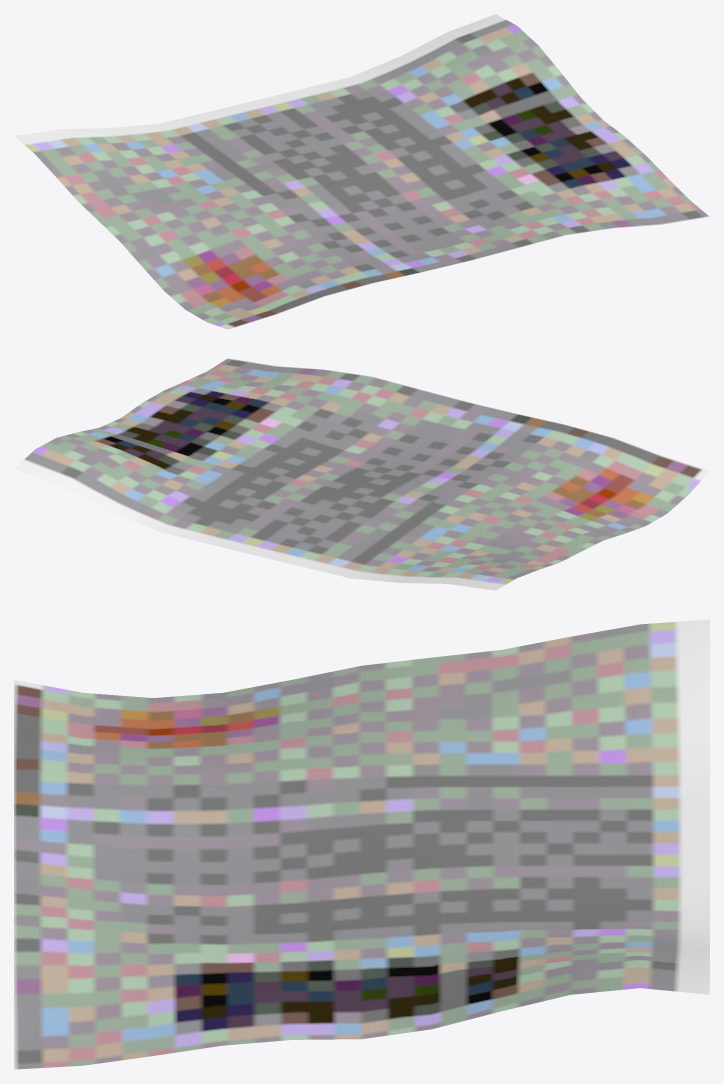
Rendered from hoja_suelta.fbx.
3 views of the same model, one above another, from view 1: azimuth 30°, elevation 25°; view 2: azimuth 150°, elevation 25°; view 3: azimuth 270°, elevation 25° (orthographic). The views are drawn at different scales.
Visible parts, largest first — view 1: pPlane2; view 2: pPlane2; view 3: pPlane2.
Boxes of the visible parts, <box> form: pPlane2: <box>14,14,709,329</box>; pPlane2: <box>14,358,709,590</box>; pPlane2: <box>14,619,709,1069</box>.
Size of the model in its own units: 1.7 by 0.1911 by 1.31.
